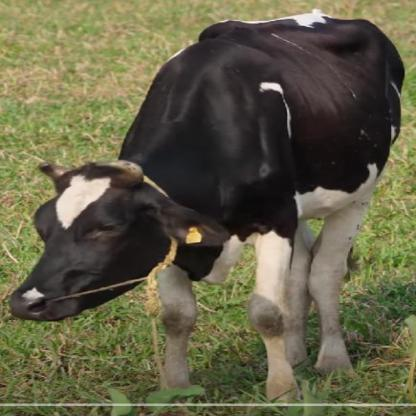cow: (11, 18, 402, 403)
